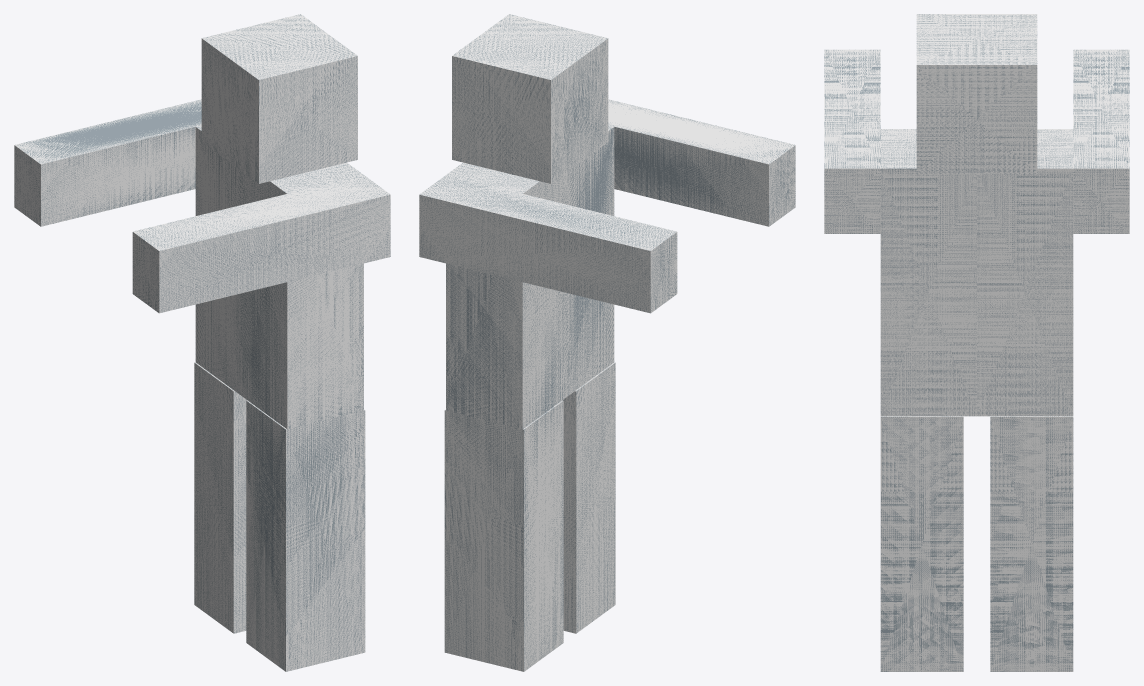
The model's file is DeadFBX.fbx.
3 renders of one model, left to right at view 1: azimuth 30°, elevation 25°; view 2: azimuth 150°, elevation 25°; view 3: azimuth 270°, elevation 25°, orthographic. The views are drawn at different scales.
Visible parts, largest first — view 1: Pierna2, Brazo2, Group1, Semitorso1, Brazo1, Pierna1, Semitorso2; view 2: Pierna1, Brazo1, Group1, Semitorso2, Brazo2, Pierna2, Semitorso1; view 3: Semitorso1, Semitorso2, Pierna1, Pierna2, Group1, Brazo1, Brazo2.
Boxes of the visible parts, <box> form: Pierna2: <box>246,400,365,671</box>; Brazo2: <box>132,175,390,313</box>; Group1: <box>201,14,357,183</box>; Semitorso1: <box>241,162,363,429</box>; Brazo1: <box>14,99,201,226</box>; Pierna1: <box>194,362,247,633</box>; Semitorso2: <box>195,125,241,395</box>; Pierna1: <box>444,400,563,671</box>; Brazo1: <box>419,175,677,313</box>; Group1: <box>452,14,608,183</box>; Semitorso2: <box>446,162,568,429</box>; Brazo2: <box>608,99,795,226</box>; Pierna2: <box>562,362,615,633</box>; Semitorso1: <box>568,125,614,395</box>; Semitorso1: <box>880,129,976,416</box>; Semitorso2: <box>977,129,1073,416</box>; Pierna1: <box>990,416,1073,671</box>; Pierna2: <box>880,416,963,671</box>; Group1: <box>916,14,1037,174</box>; Brazo1: <box>1073,49,1129,233</box>; Brazo2: <box>824,49,880,233</box>.
Bounding box in the file's own units: 0.3669 × 0.84 × 0.3795.
